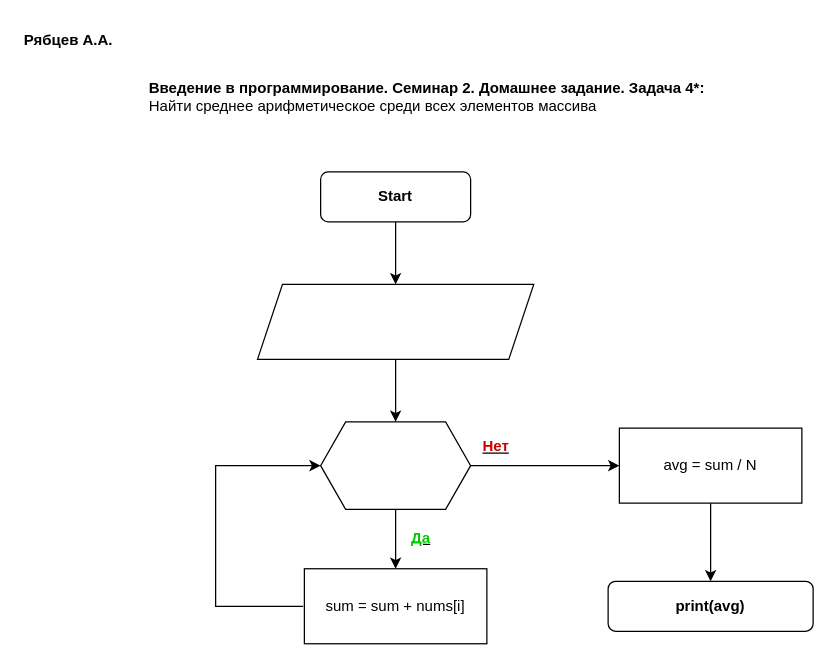
Image size: 835x665. Some labels were removed from this diagram. The shapes that lost their labels are listed below. From the top down, each one's centre as x and y in pixels, then its label:
At pixel 395 321: "nums = [1, 8, 3, 11, 2, 6, 9, 5] N = nums.length = 8 sum = 0".
At pixel 395 465: "i = 0; i < N; i++".
